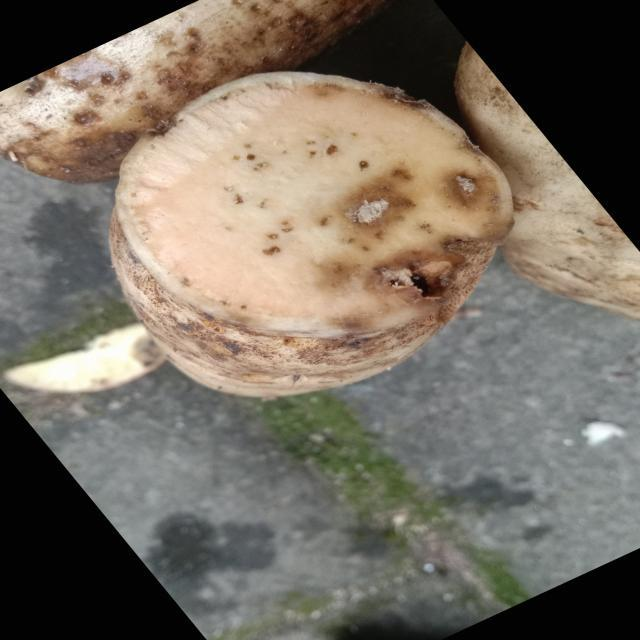Sick Sweet Potato_Tuber Rot: (117, 72, 513, 336)
